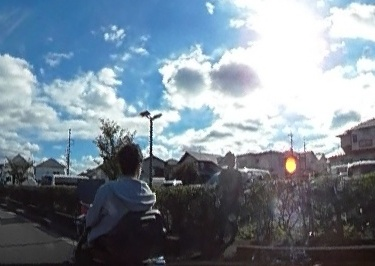person: (85, 140, 153, 265), (216, 150, 240, 242)
